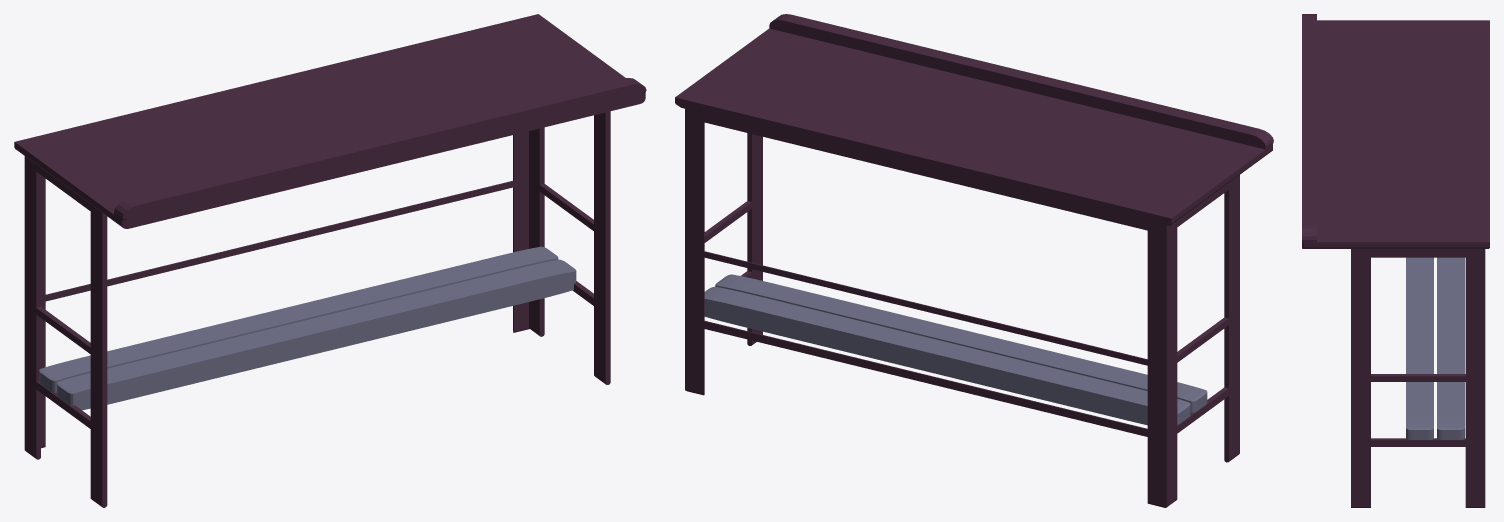
File: parada-mio-oscuro.fbx
3 views of the same model, side by side, from view 1: azimuth 30°, elevation 25°; view 2: azimuth 150°, elevation 25°; view 3: azimuth 270°, elevation 25° (orthographic). The views are drawn at different scales.
Parts seen in each view (by area): view 1: Cube.001, Cube; view 2: Cube.001, Cube; view 3: Cube.001, Cube.
Boxes of the visible parts, x1,y1,x2,y2 form: Cube.001: (14, 14, 646, 507); Cube: (39, 246, 576, 410); Cube.001: (675, 14, 1273, 507); Cube: (704, 274, 1207, 425); Cube.001: (1302, 14, 1489, 507); Cube: (1406, 257, 1464, 439).
Size of the model in its own units: 324 by 190 by 116.
